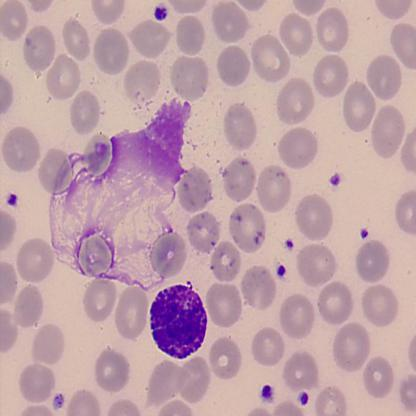Basophil: (146, 279, 210, 365)
